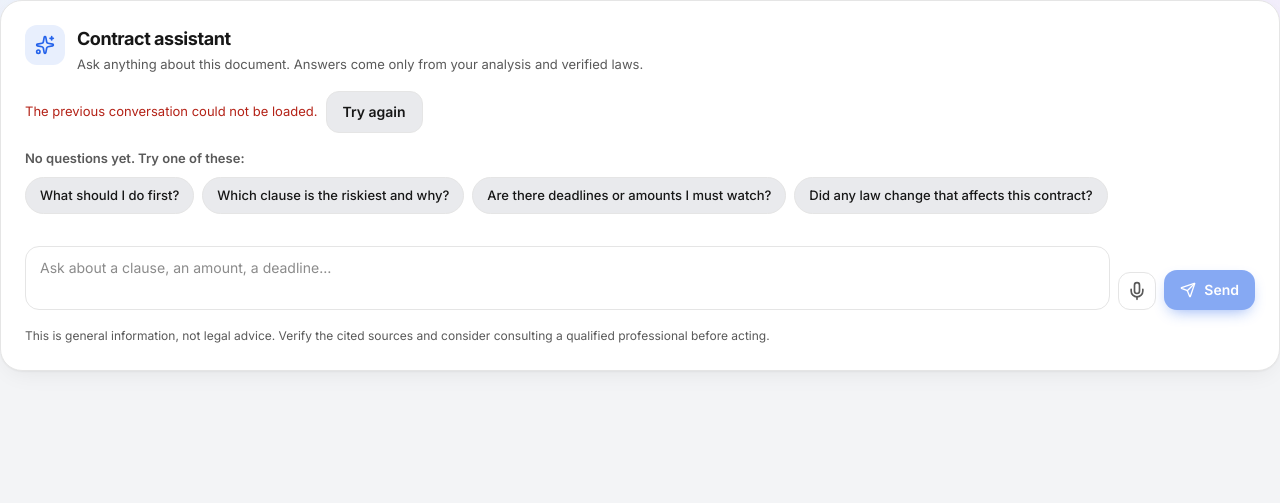
Test case: AssistantPanel › offers to retry when the history cannot be loaded
Check: the text "The previous conversation could not be loaded. Try again" is shown, box [25, 91, 423, 133]
Click the button "Try again" at x=374, y=112, box [326, 91, 423, 133]
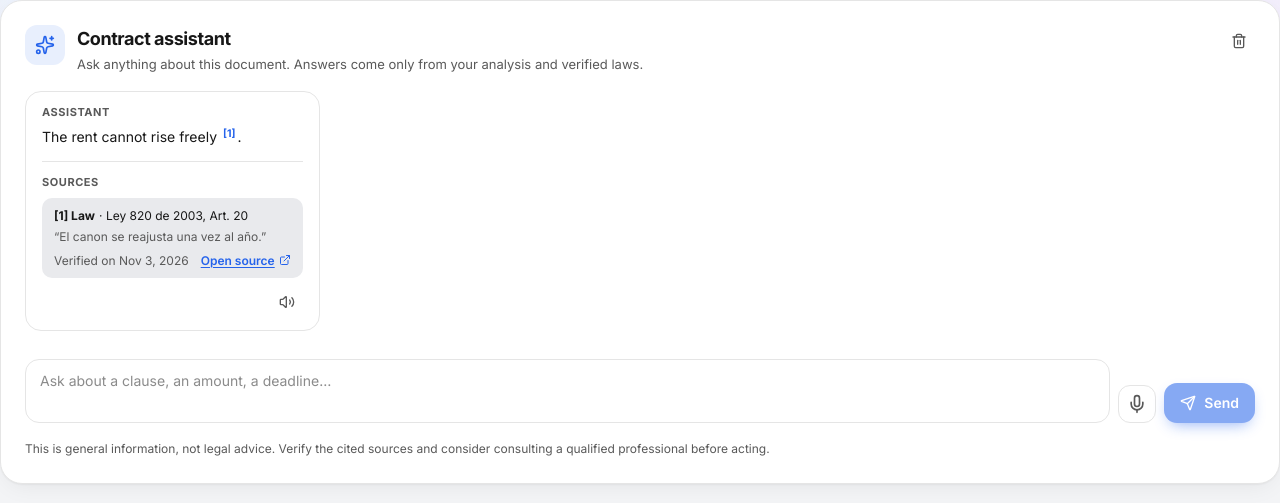
Check: the text "The rent cannot rise freely [1] ." is shown, box [42, 127, 242, 145]
